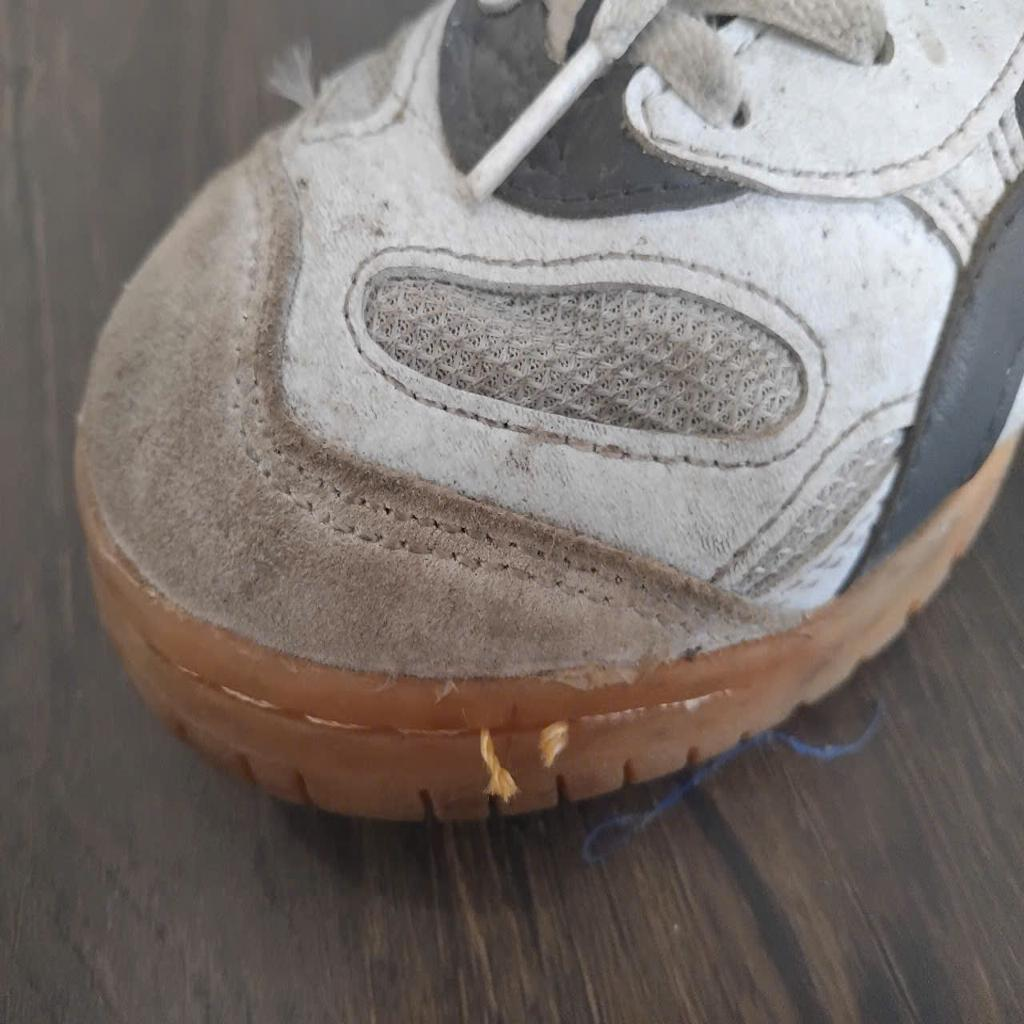broken: (466, 713, 579, 805)
